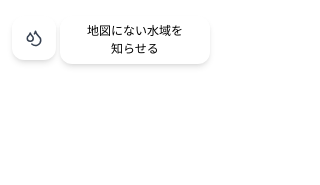
Scenario: 水域から選択・調査・情報提供 › 一覧外にフォーカスがあるまま一覧を閉じてもフォーカスを動かさない
Later steps or results of the test are not shown.
Click the button named "近くの水域を探す": (34, 38) [12,16,56,60]
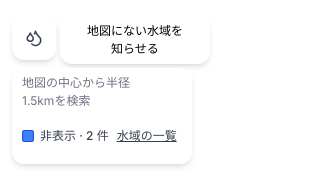
Expected: the button "水域の一覧" is shown, [117,114,177,158]
